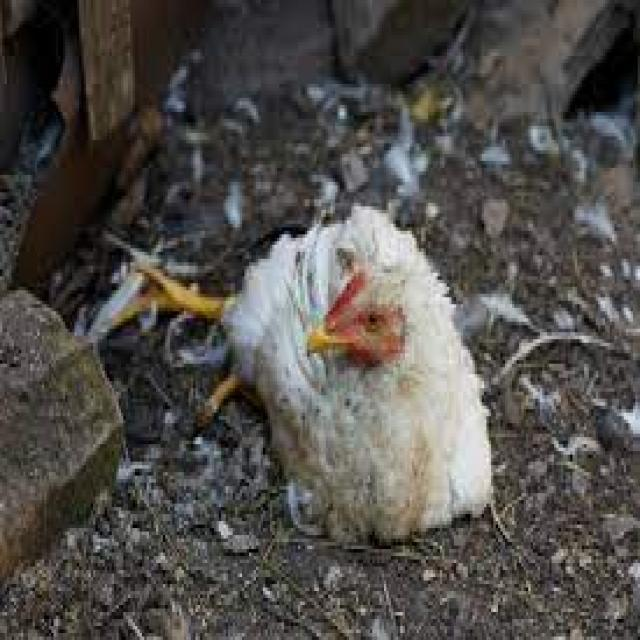AbNormal: (108, 216, 488, 548)
